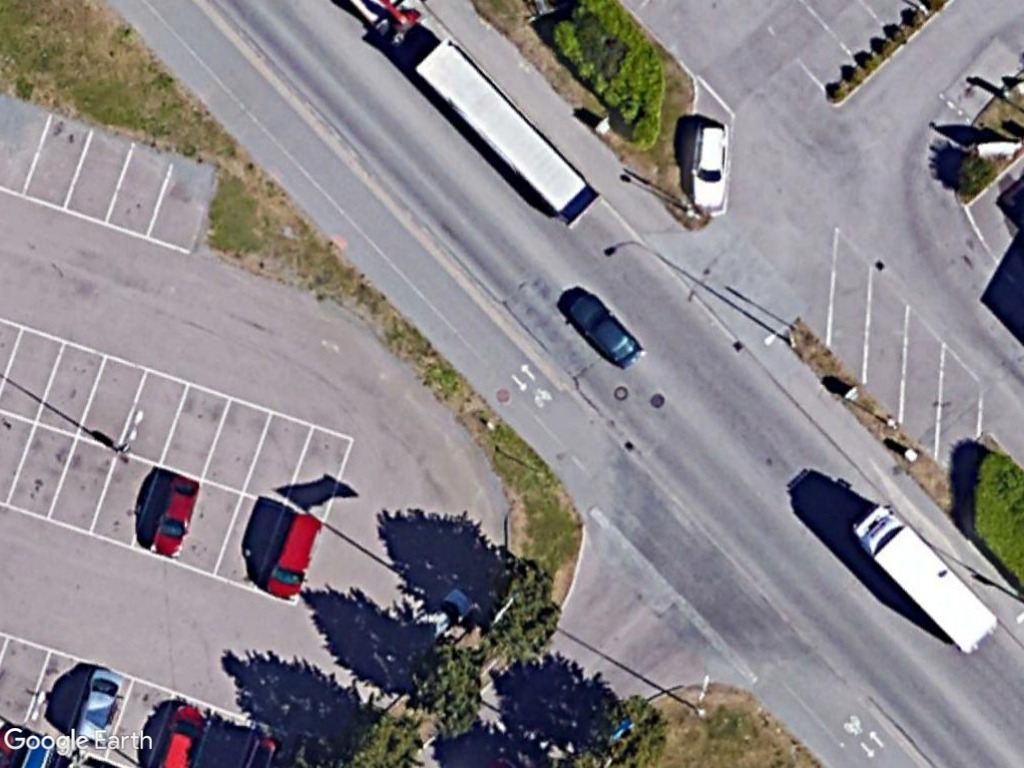car: (560, 288, 647, 370), (258, 508, 329, 602), (144, 474, 204, 562), (72, 663, 129, 743), (688, 117, 734, 215)
truck: (851, 498, 1004, 663)
